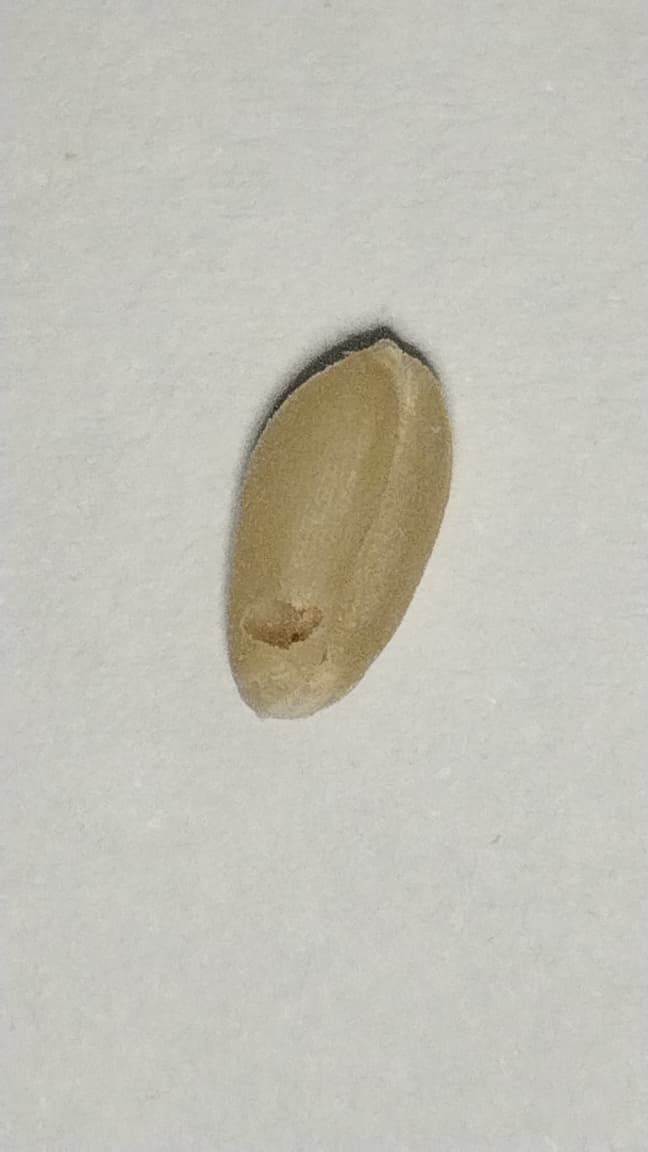damage: (221, 317, 464, 745)
insectdamage: (229, 577, 363, 679)
